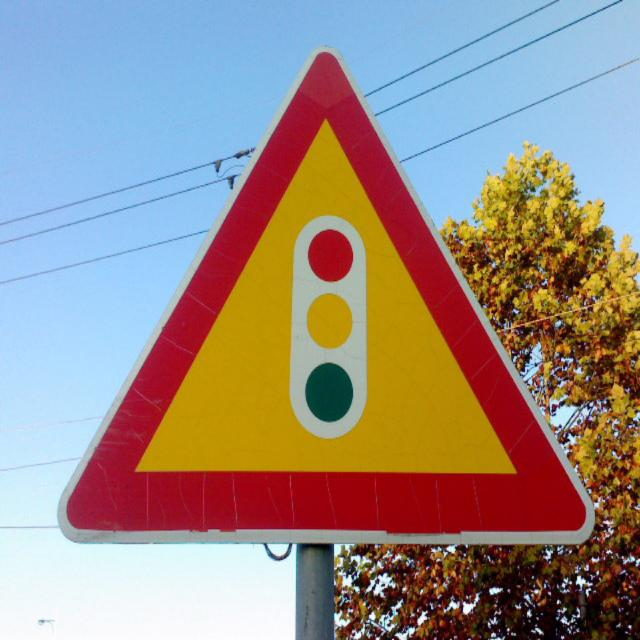Traffic_signal: (51, 26, 603, 556)
